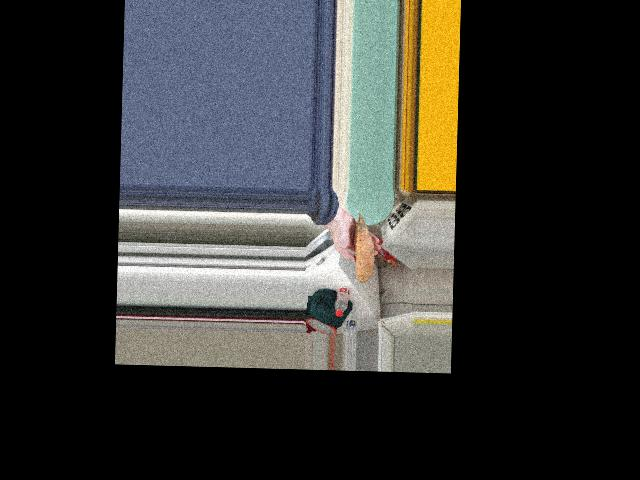sweet_potato: (351, 215, 375, 283)
